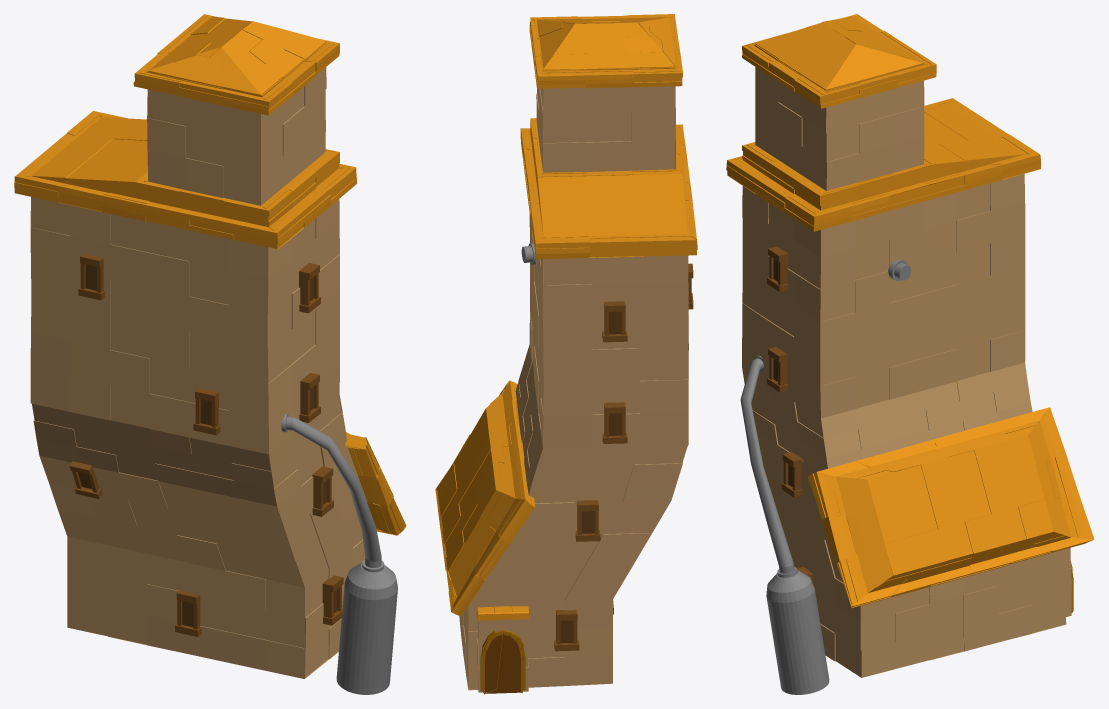
The model's file is Apartment_Building_2.fbx.
3 renders of one model, left to right at view 1: azimuth 30°, elevation 25°; view 2: azimuth 150°, elevation 25°; view 3: azimuth 270°, elevation 25°, orthographic. The views are drawn at different scales.
Visible parts, largest first — view 1: Cube.508, Cylinder.877, Cylinder.873, Cube.519, Cube.518, Cube.521, Cube.514, Cube.516, Cube.517, Cube.515, Cube.520; view 2: Cube.508, Cube.522, Cube.511, Cube.512, Cube.513, Cube.510; view 3: Cube.508, Cylinder.877, Cylinder.873, Cube.514, Cube.516, Cube.515.
Boxes of the visible parts, x1,y1,x2,y2 form: Cube.508: (14,14,406,678); Cylinder.877: (336,563,397,694); Cylinder.873: (281,414,384,572); Cube.519: (193,388,220,435); Cube.518: (78,253,105,300); Cube.521: (175,590,201,636); Cube.514: (299,263,320,313); Cube.516: (312,466,333,516); Cube.517: (322,575,343,625); Cube.515: (299,373,320,422); Cube.520: (69,461,102,498); Cube.508: (435,14,697,692); Cube.522: (480,630,525,694); Cube.511: (575,500,600,541); Cube.512: (602,402,627,443); Cube.513: (602,301,627,342); Cube.510: (554,610,579,651); Cube.508: (726,14,1094,677); Cylinder.877: (766,570,829,694); Cylinder.873: (740,355,797,577); Cube.514: (767,246,788,292); Cube.516: (781,452,802,497); Cube.515: (767,347,788,392).
Size of the model in its own units: 1456 by 2730 by 1503.
